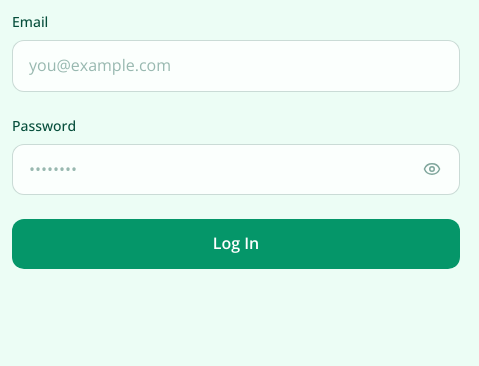
Test: AuthForm › Login Mode › shows an error when password is shorter than 6 characters
Type "test@example.com" into the field labelled "Email" at point(236, 66), box [12, 40, 460, 92]
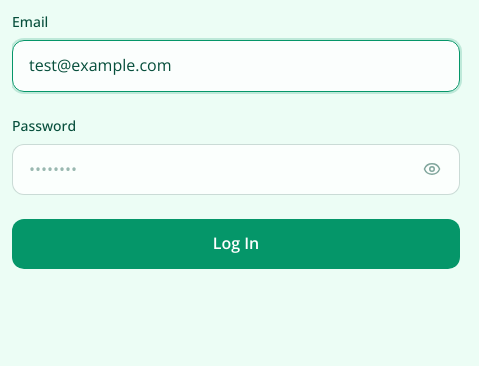
Type "12345" into the password field labelled "Password" at point(236, 169), box [12, 144, 460, 195]
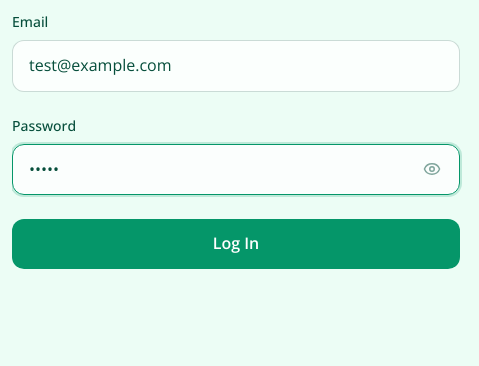
Click the button "Log In" at point(236, 244), box [12, 219, 460, 269]
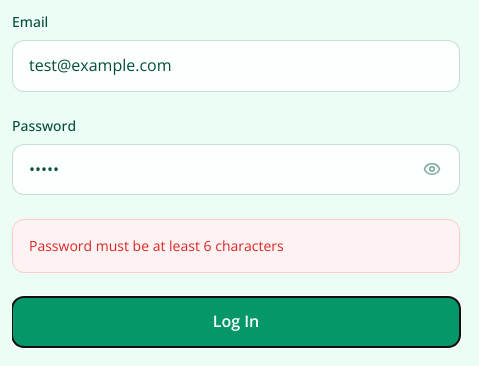
Now the text "Password must be at least 6 characters" is shown, box [29, 236, 284, 255]
